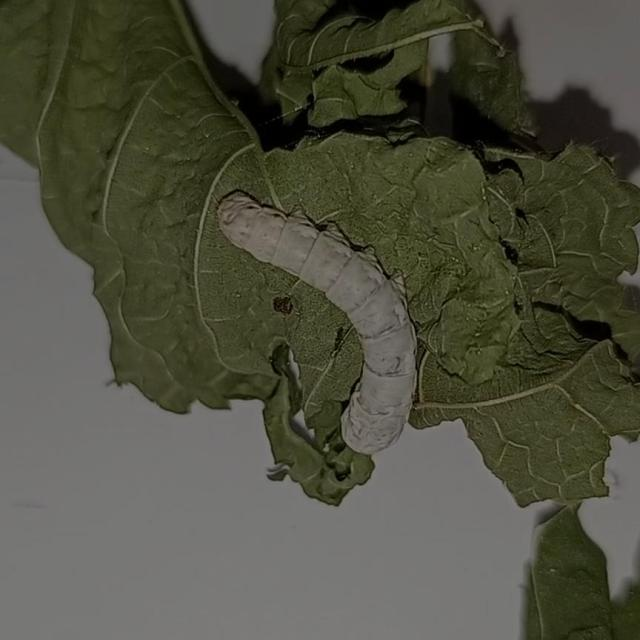Healthy: (198, 162, 452, 481)
